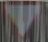Give way: (1, 2, 43, 41)
